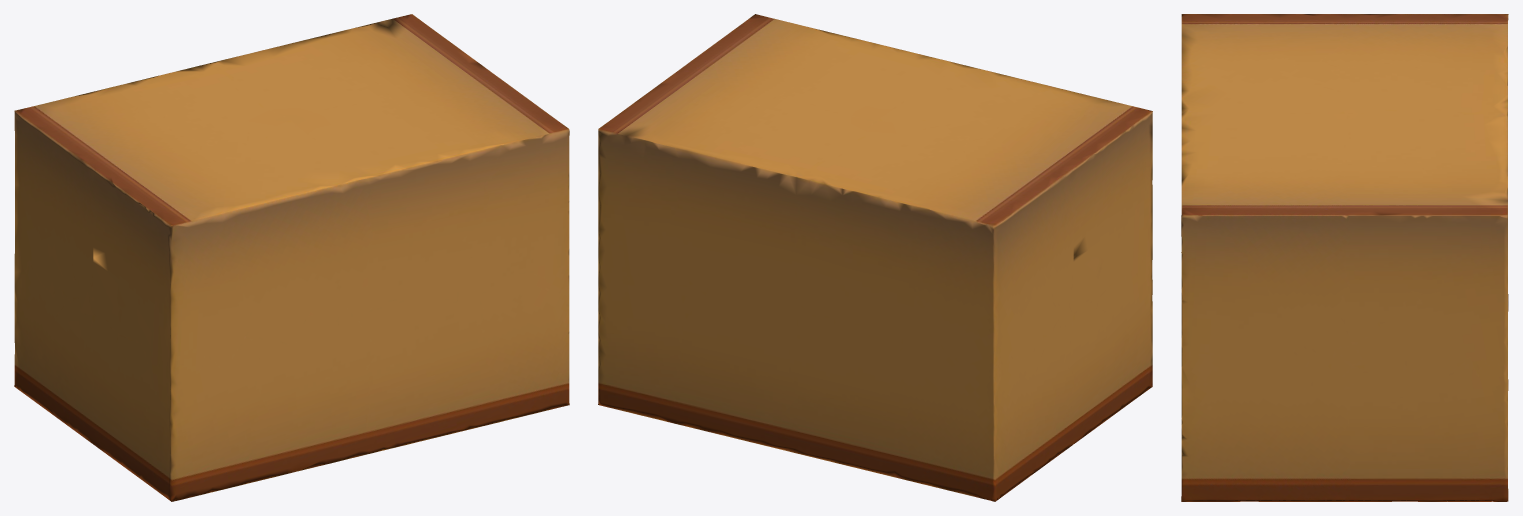
Rendered from ParedMemory.fbx.
3 views of the same model, side by side, from view 1: azimuth 30°, elevation 25°; view 2: azimuth 150°, elevation 25°; view 3: azimuth 270°, elevation 25° (orthographic). The views are drawn at different scales.
Parts seen in each view (by area): view 1: tripo_node_78900ad4; view 2: tripo_node_78900ad4; view 3: tripo_node_78900ad4.
Part boxes in pixels (x1,y1,x2,y2): tripo_node_78900ad4: (14,14,569,501); tripo_node_78900ad4: (598,14,1152,501); tripo_node_78900ad4: (1181,14,1508,501).
Size of the model in its own units: 0.9998 by 0.6632 by 0.6858.
Materials: 1 (1 with a texture image).
